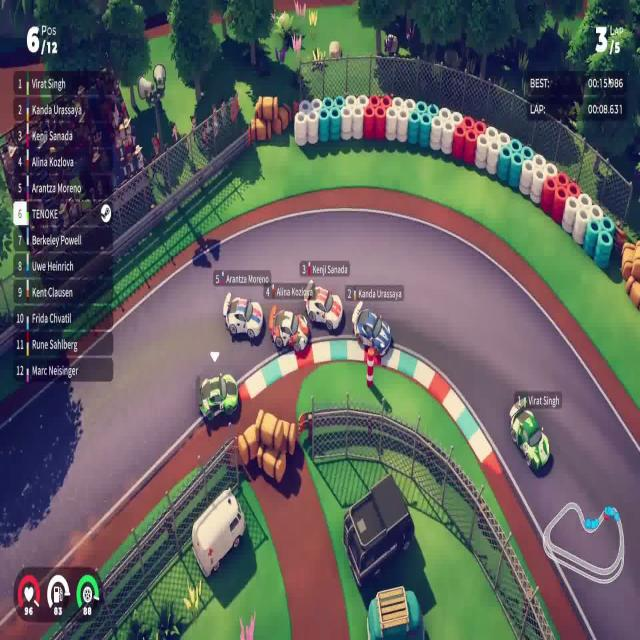car: (508, 392, 550, 473), (352, 300, 392, 358), (268, 302, 311, 354), (198, 370, 239, 423), (303, 279, 343, 333), (222, 291, 264, 341)
